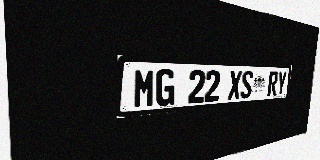2: (188, 69, 206, 104), (204, 70, 220, 102)
G: (155, 69, 176, 107)
M: (133, 68, 156, 109)
R: (267, 71, 278, 97)
S: (240, 70, 253, 99)
X: (228, 70, 242, 100)
Y: (276, 71, 287, 96)
